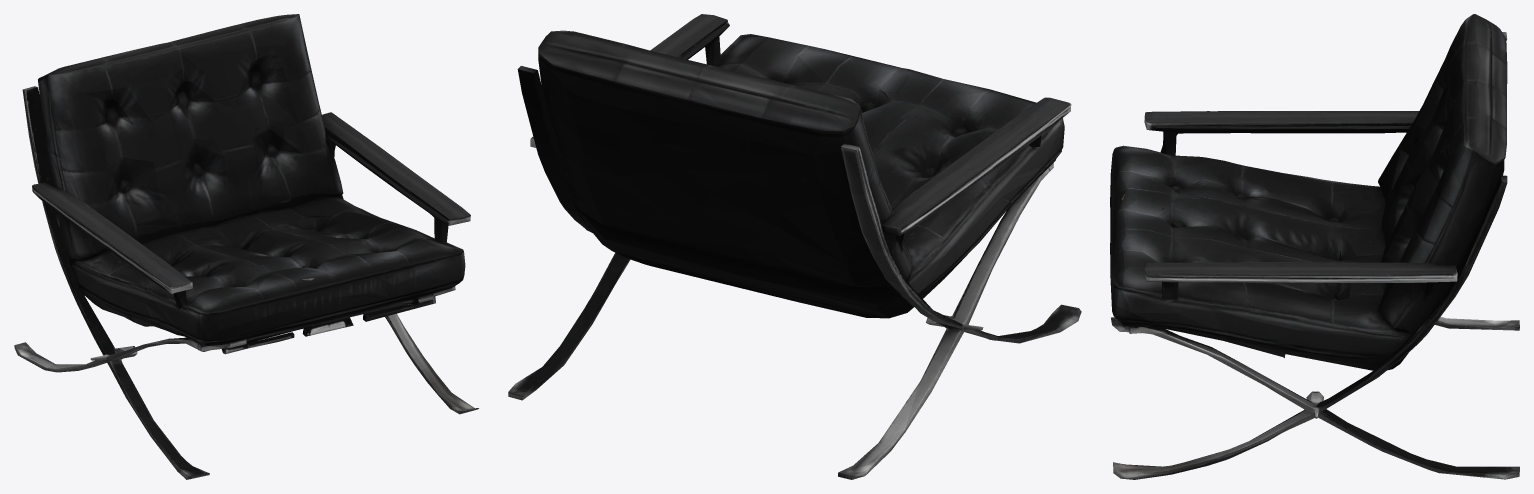
The model's file is loungeChair.glb.
3 renders of one model, left to right at view 1: azimuth 30°, elevation 25°; view 2: azimuth 150°, elevation 25°; view 3: azimuth 270°, elevation 25°, orthographic. The views are drawn at different scales.
Visible parts, largest first — view 1: world; view 2: world; view 3: world.
Boxes of the visible parts, bbox=[...] form: world: bbox=[14, 14, 478, 479]; world: bbox=[508, 14, 1081, 479]; world: bbox=[1110, 14, 1519, 479].
Bounding box in the file's own units: 0.9668 × 0.8644 × 0.9974.
1 material, 1 textured.
